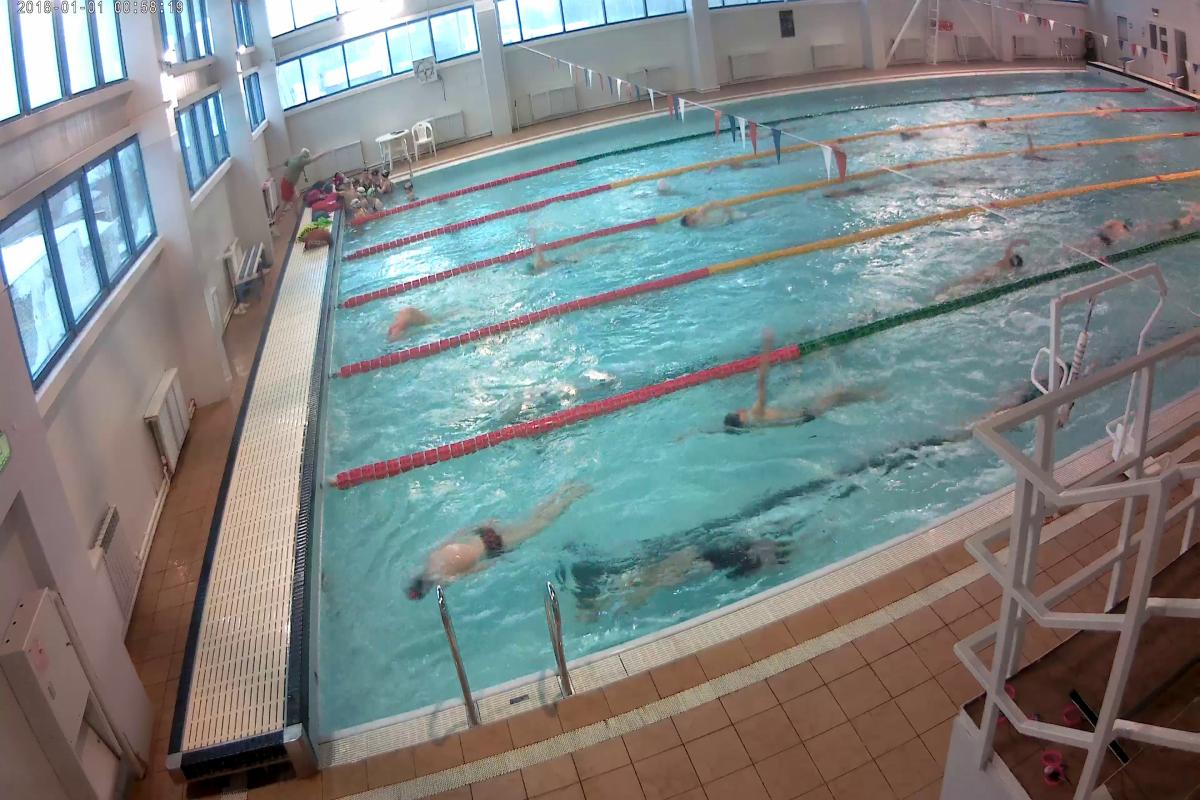swimmer: (396, 492, 574, 574), (615, 547, 749, 600), (735, 392, 879, 418), (510, 243, 610, 276), (957, 246, 1034, 282), (389, 306, 465, 335), (1077, 221, 1146, 245), (681, 207, 761, 223), (814, 184, 875, 202)
